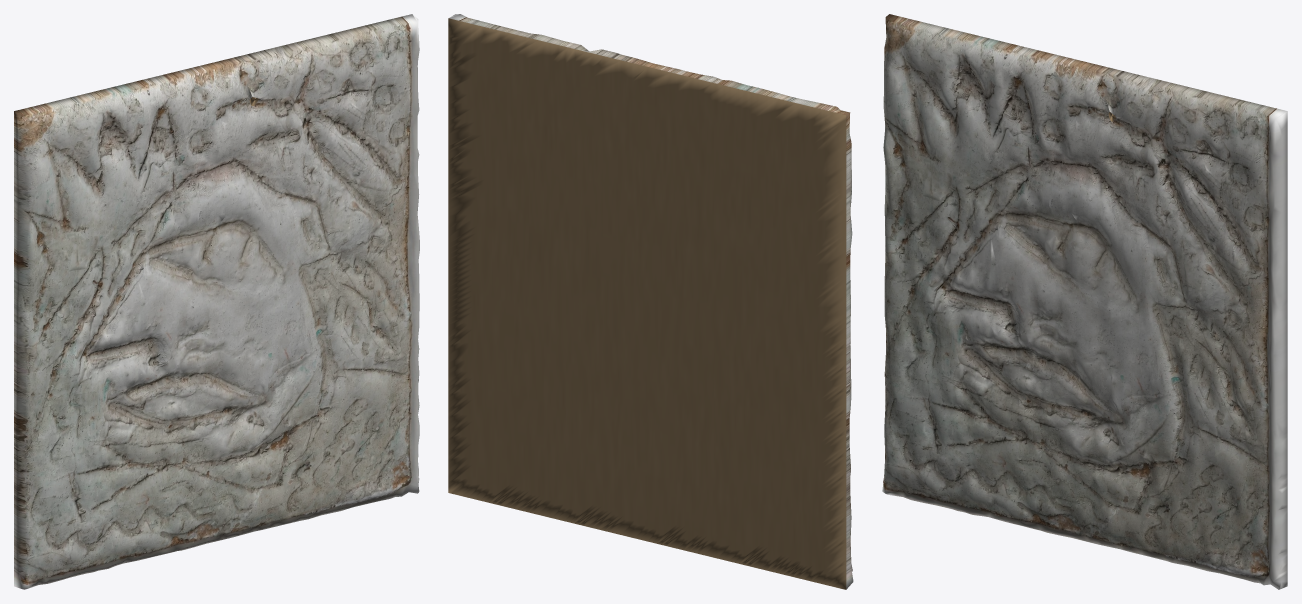
Rendered from escultura-esc-026.glb.
3 views of the same model, side by side, from view 1: azimuth 30°, elevation 25°; view 2: azimuth 150°, elevation 25°; view 3: azimuth 330°, elevation 25° (orthographic).
Parts seen in each view (by area): view 1: world; view 2: world; view 3: world.
Part boxes in pixels (left/top/right/bottom): world: left=14, top=14, right=419, bottom=589; world: left=448, top=14, right=853, bottom=589; world: left=882, top=14, right=1287, bottom=589.
Size of the model in its own units: 0.4562 by 0.5201 by 0.0257.
1 material, 1 textured.
